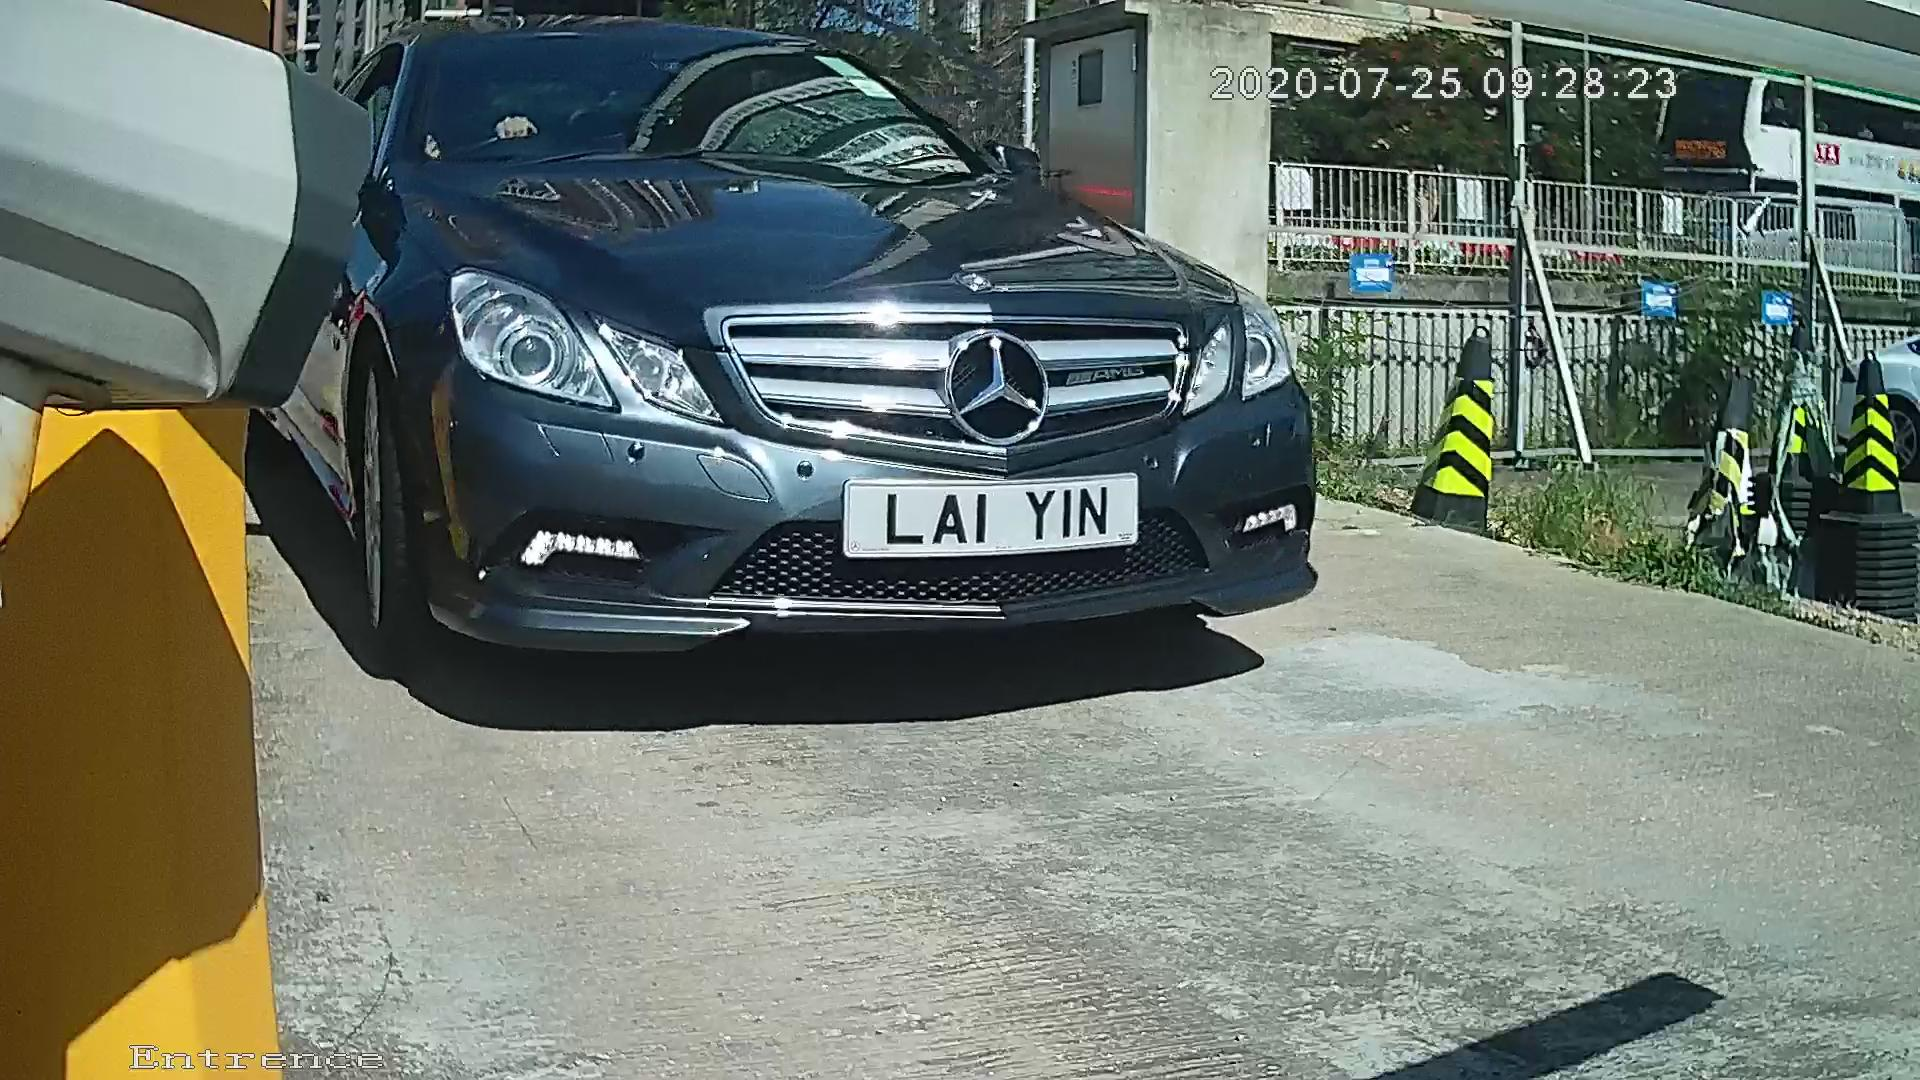License Plate: (815, 459, 1166, 565)
